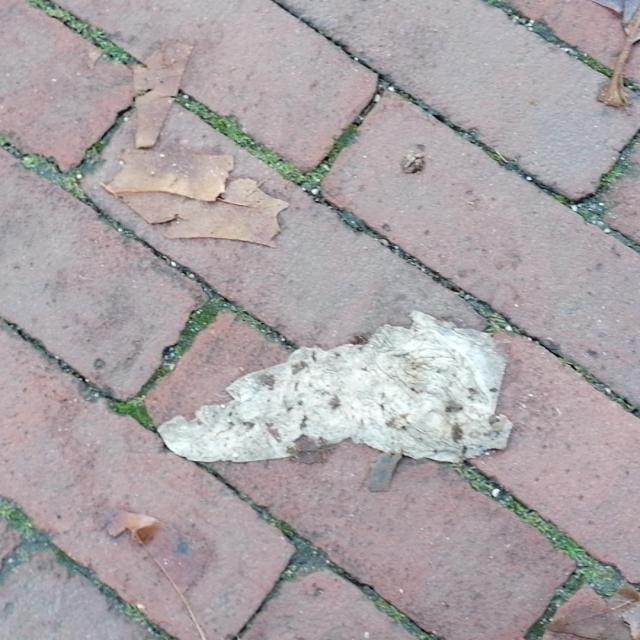Paper: (155, 308, 514, 468)
